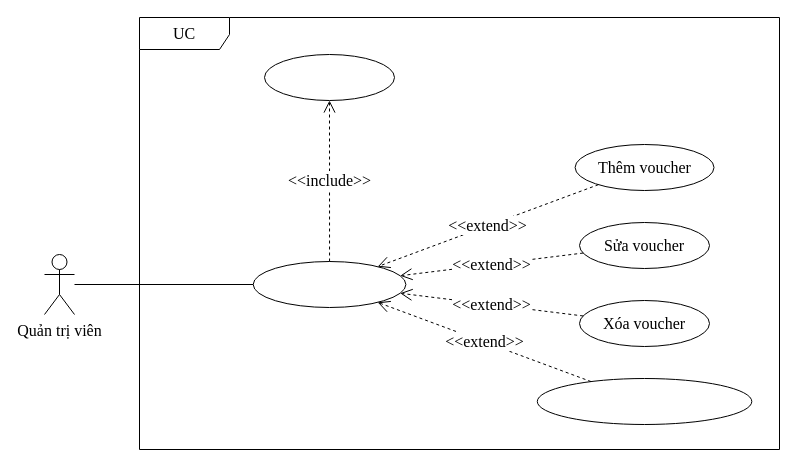
Image size: 797x467. Some labels were removed from this diagram. The shapes that lost their labels are listed below. From the top down, each one's centre as x and y in pixels, then its label:
the point at 329,77: Đăng nhập
the point at 329,284: Quản lý voucher
the point at 644,401: Thiết lập phạm vi áp dụng
